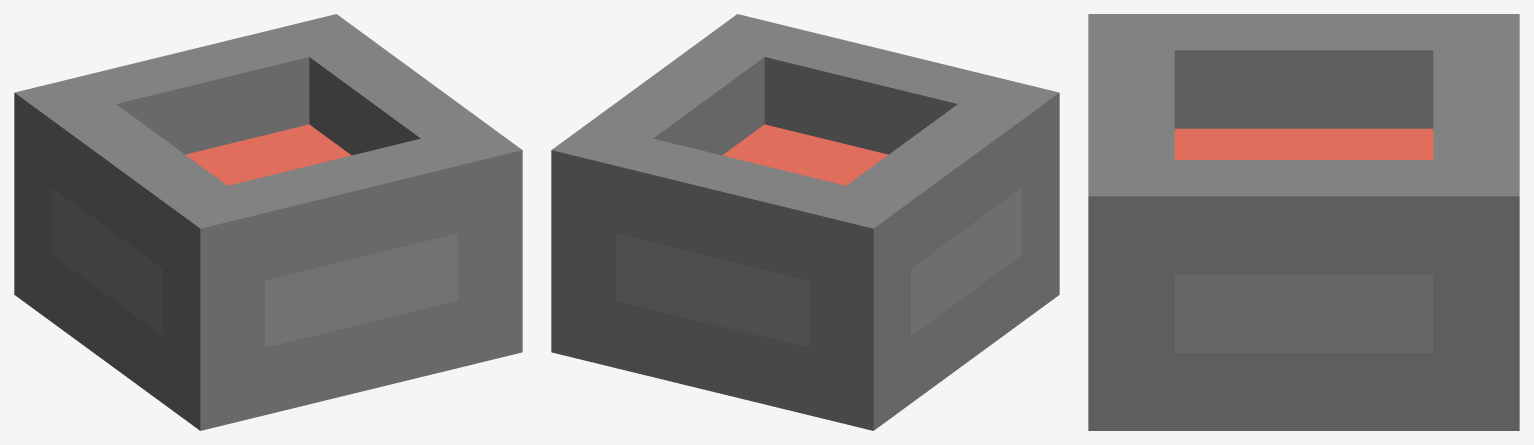
The model's file is cupred.fbx.
The picture shows the model from 3 angles, left to right: view 1: azimuth 30°, elevation 25°; view 2: azimuth 150°, elevation 25°; view 3: azimuth 270°, elevation 25°; orthographic projection. The views are drawn at different scales.
Visible parts, largest first — view 1: cupred; view 2: cupred; view 3: cupred.
Part boxes in pixels (x1,y1,x2,y2): cupred: (14,14,522,430); cupred: (551,14,1059,430); cupred: (1088,14,1519,430).
Size of the model in its own units: 5 by 3 by 5.
